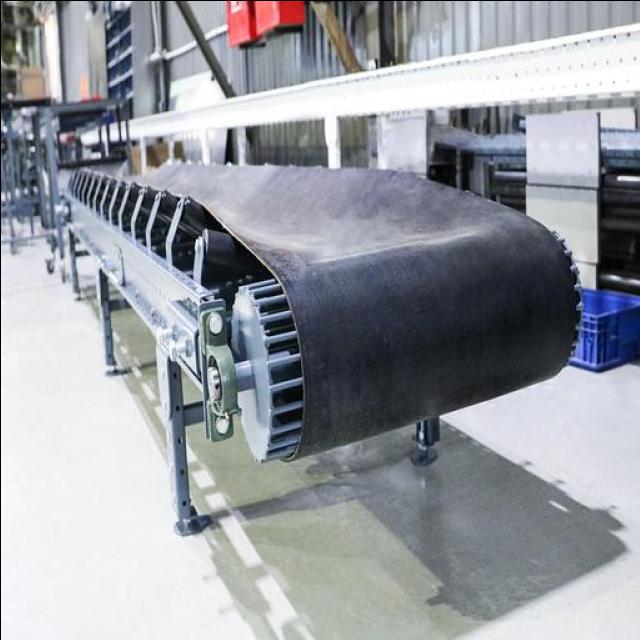conveyor: (75, 158, 580, 459)
